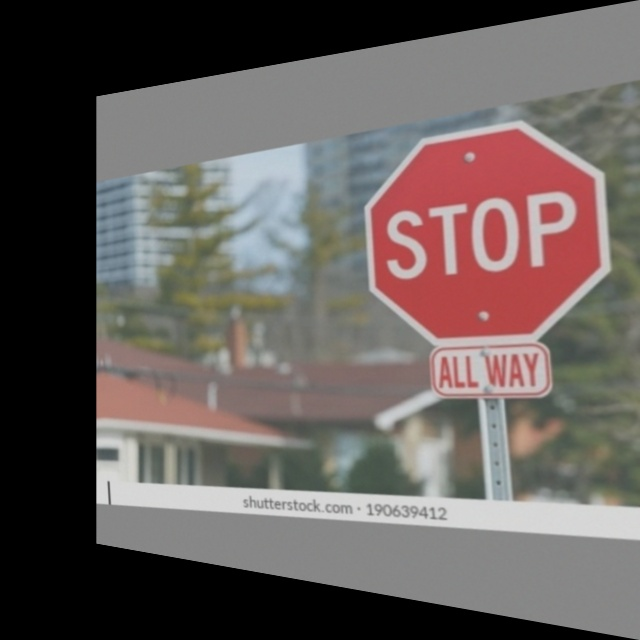Stop: (361, 103, 617, 352)
